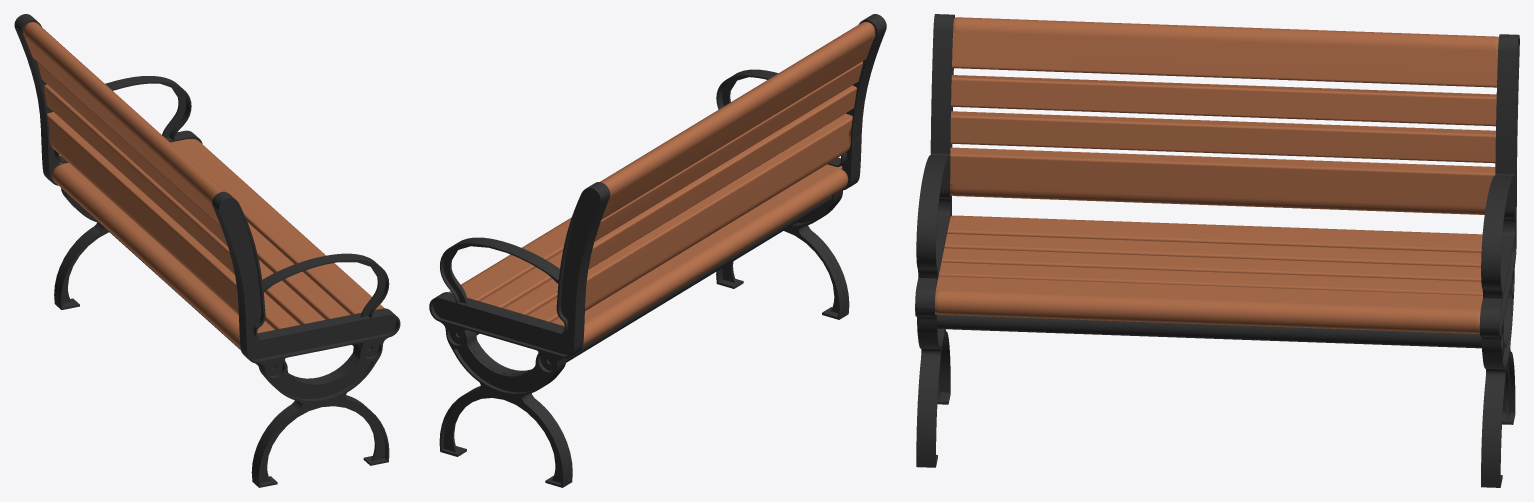
Rendered from bench.FBX.
3 renders of one model, left to right at view 1: azimuth 30°, elevation 25°; view 2: azimuth 150°, elevation 25°; view 3: azimuth 270°, elevation 25°, orthographic. The views are drawn at different scales.
Visible parts, largest first — view 1: Shape2, Shape30, ChamferB54, ChamferB53, ChamferB49, ChamferB48, ChamferB56, Shape31, ChamferB55, ChamferB52, Shape32, ChamferB51 (+1 smaller); view 2: ChamferB53, ChamferB54, Shape31, Shape32, ChamferB49, ChamferB56, ChamferB55, Shape30, ChamferB48, Shape2, Cylinder12, ChamferB52 (+1 smaller); view 3: ChamferB54, ChamferB53, ChamferB48, ChamferB56, ChamferB55, Shape31, Shape30, ChamferB49, Cylinder13, ChamferB50, ChamferB51, ChamferB52 (+1 smaller).
Boxes of the visible parts, x1=… form: Shape2: x1=215, y1=195, x2=396, y2=485; Shape30: x1=212, y1=191, x2=400, y2=487; ChamferB54: x1=23, y1=22, x2=224, y2=226; ChamferB53: x1=47, y1=112, x2=238, y2=315; ChamferB49: x1=52, y1=162, x2=274, y2=348; ChamferB48: x1=170, y1=139, x2=384, y2=314; ChamferB56: x1=44, y1=84, x2=234, y2=274; Shape31: x1=14, y1=14, x2=202, y2=309; ChamferB55: x1=37, y1=62, x2=227, y2=246; ChamferB52: x1=247, y1=222, x2=350, y2=319; Shape32: x1=16, y1=15, x2=196, y2=306; ChamferB51: x1=259, y1=260, x2=325, y2=324; ChamferB53: x1=585, y1=113, x2=852, y2=310; ChamferB54: x1=600, y1=22, x2=875, y2=219; Shape31: x1=429, y1=182, x2=610, y2=487; Shape32: x1=433, y1=185, x2=604, y2=486; ChamferB49: x1=551, y1=164, x2=848, y2=346; ChamferB56: x1=588, y1=85, x2=856, y2=269; ChamferB55: x1=594, y1=61, x2=863, y2=241; Shape30: x1=716, y1=14, x2=886, y2=319; ChamferB48: x1=449, y1=217, x2=571, y2=301; Shape2: x1=722, y1=16, x2=883, y2=316; Cylinder12: x1=548, y1=195, x2=831, y2=363; ChamferB52: x1=480, y1=251, x2=562, y2=308; ChamferB54: x1=952, y1=17, x2=1498, y2=87; ChamferB53: x1=950, y1=147, x2=1495, y2=214; ChamferB48: x1=934, y1=276, x2=1482, y2=333; ChamferB56: x1=950, y1=111, x2=1495, y2=163; ChamferB55: x1=951, y1=75, x2=1496, y2=126; Shape31: x1=1479, y1=34, x2=1519, y2=487; Shape30: x1=915, y1=14, x2=954, y2=467; ChamferB49: x1=947, y1=215, x2=1482, y2=252; Cylinder13: x1=936, y1=314, x2=1481, y2=348; ChamferB50: x1=944, y1=234, x2=1481, y2=267; ChamferB51: x1=941, y1=248, x2=1481, y2=281; ChamferB52: x1=938, y1=262, x2=1482, y2=295.
Bounding box in the file's own units: 17.13 × 23.27 × 35.34.
